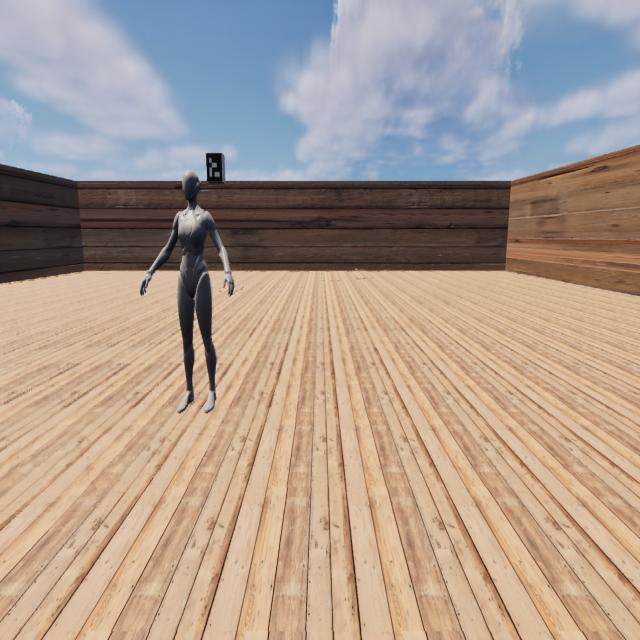aruco: (206, 152, 223, 184)
hip: (178, 271, 210, 284)
